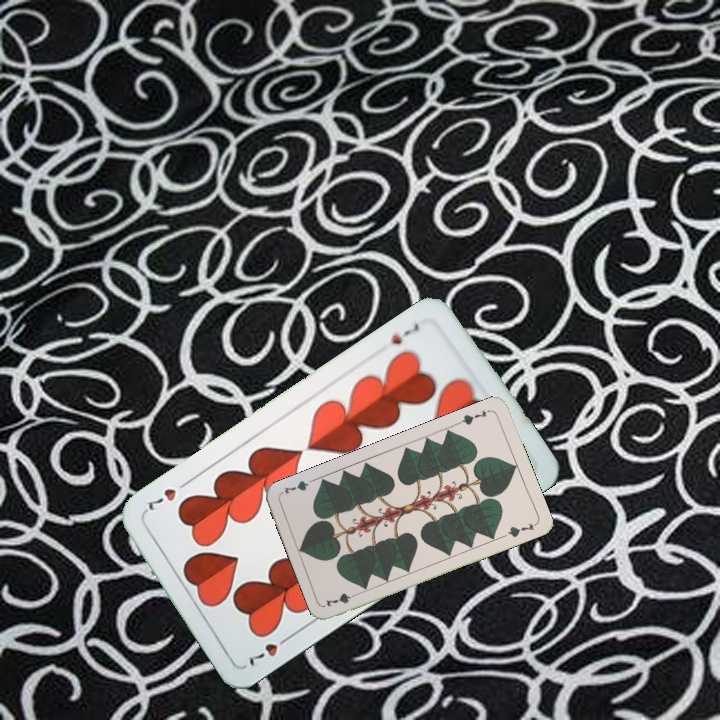G7: (321, 588, 362, 610), (454, 406, 493, 428)
H7: (244, 631, 295, 669), (387, 319, 422, 348)
